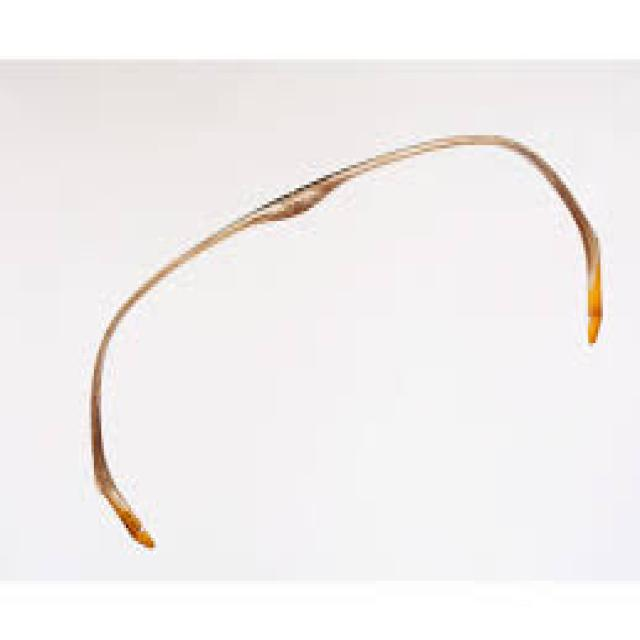X-Bow: (89, 127, 606, 552)
